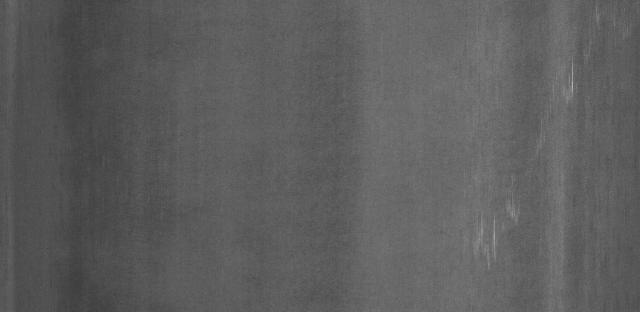silk_spot: (455, 172, 529, 285)
